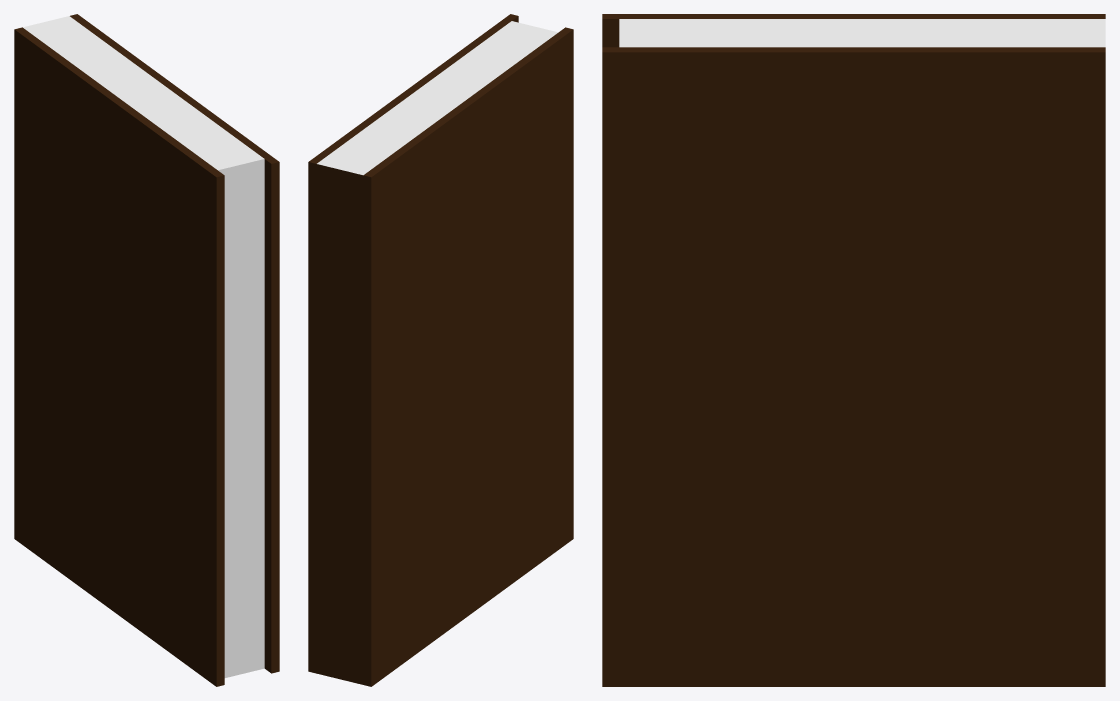
Rendered from Libro.FBX.
3 views of the same model, side by side, from view 1: azimuth 30°, elevation 25°; view 2: azimuth 150°, elevation 25°; view 3: azimuth 270°, elevation 25° (orthographic). The views are drawn at different scales.
Parts seen in each view (by area): view 1: Libro; view 2: Libro; view 3: Libro.
Part boxes in pixels (<box>): Libro: <box>14,14,279,686</box>; Libro: <box>308,14,573,686</box>; Libro: <box>602,14,1105,686</box>.
Size of the model in its own units: 0.1076 by 0.8318 by 0.5979.
